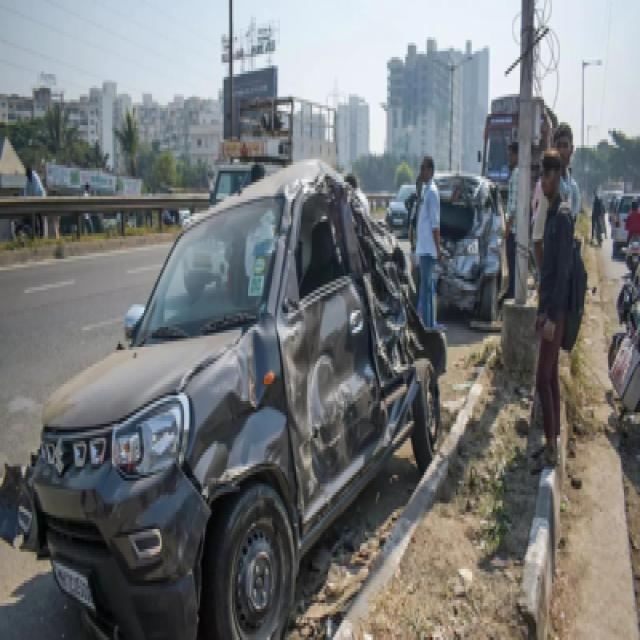accident: (32, 160, 446, 637)
